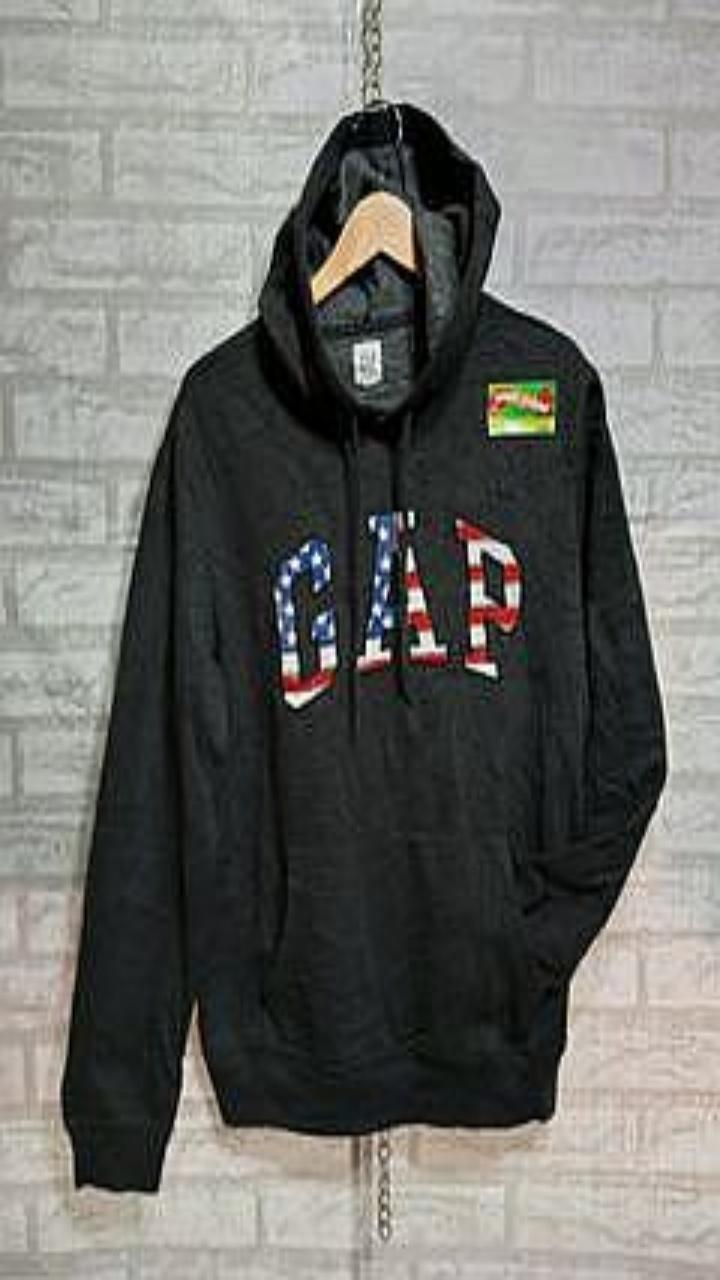Hoodie: (62, 102, 666, 1190)
